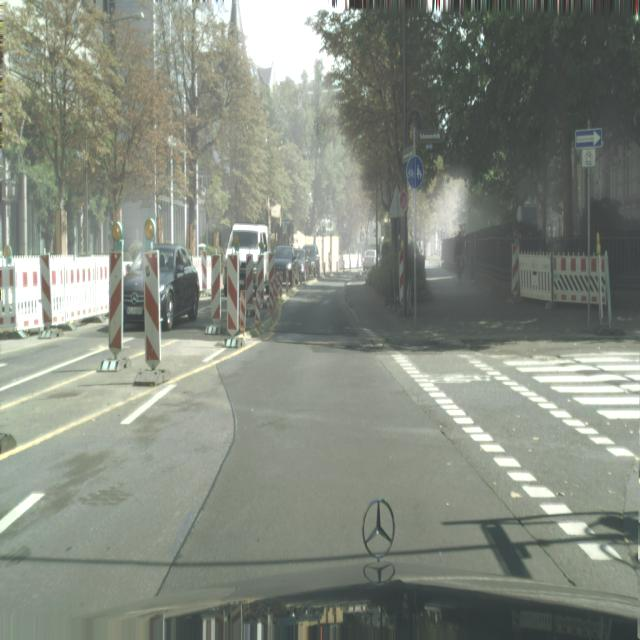motorcycle: (225, 222, 277, 299)
truck: (123, 243, 201, 331), (273, 246, 297, 286), (303, 244, 320, 279), (362, 248, 378, 274)
